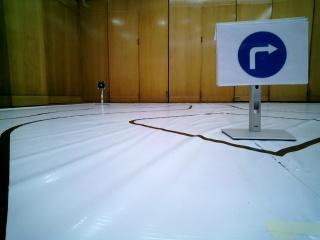right: (225, 27, 306, 86)
